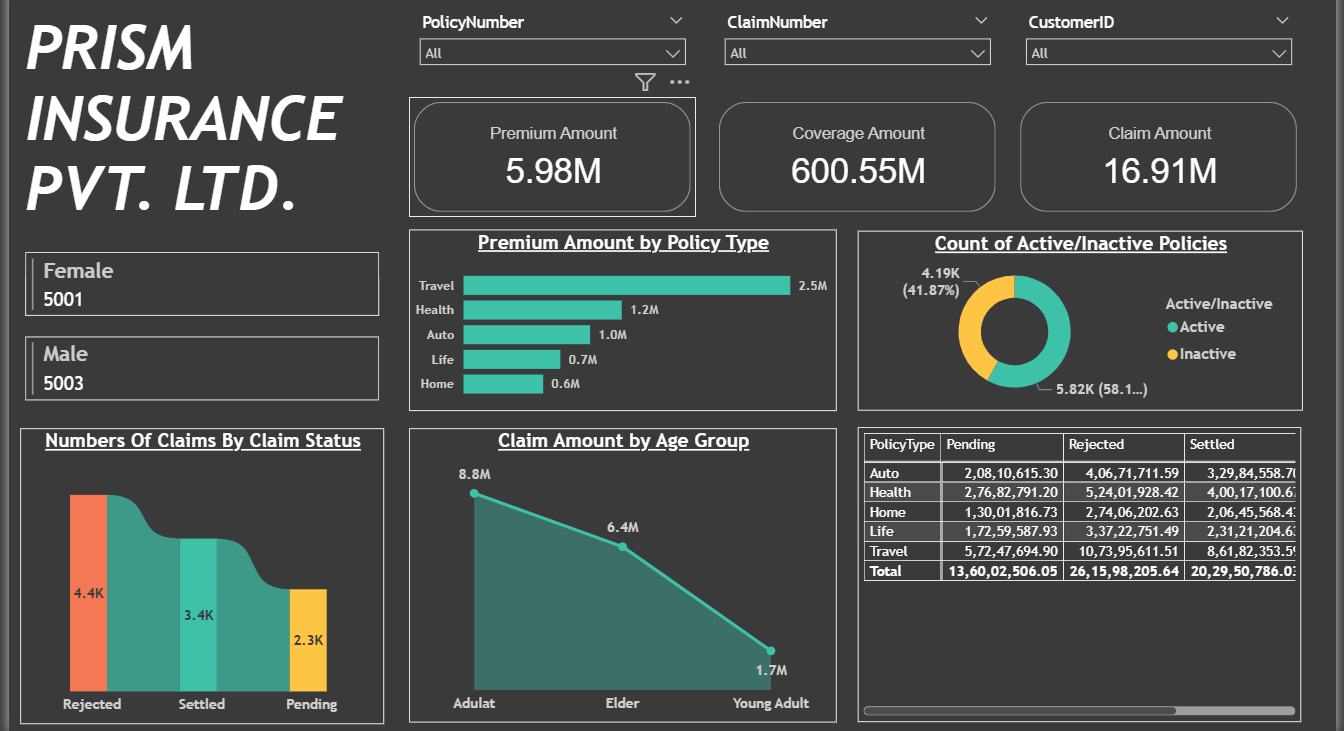

What the dashboard file says about the page in this screenshot:
{"tool":"powerbi","page":{"name":"Page 1","canvas":[1280,720],"ordinal":0},"visuals":[{"type":"slicer","fields":{"Values":["InsuranceData.PolicyNumber"]},"box":[385.6,19.2,277.2,68.6],"z":0},{"type":"slicer","fields":{"Values":["InsuranceData.ClaimNumber"]},"box":[680.6,19.2,277.2,68.6],"z":1000},{"type":"slicer","fields":{"Values":["InsuranceData.CustomerID"]},"box":[971.5,19.2,277.2,68.6],"z":2000},{"type":"textbox","box":[11,19.2,351.3,231.9],"z":3000},{"type":"cardVisual","fields":{"Data":["Sum(InsuranceData.PremiumAmount)"]},"box":[385.6,105.7,277.2,116.6],"z":3001},{"type":"cardVisual","fields":{"Data":["Sum(InsuranceData.CoverageAmount)"]},"box":[680.6,105.7,277.2,116.6],"z":3002},{"type":"cardVisual","fields":{"Data":["Sum(InsuranceData.ClaimAmount)"]},"box":[971.5,105.7,277.2,116.6],"z":3003},{"type":"multiRowCard","fields":{"Values":["InsuranceData.Gender","CountNonNull(InsuranceData.Gender)"]},"box":[11,251.1,351.3,174.3],"z":3004},{"type":"ribbonChart","title":"Numbers Of Claims By Claim Status","fields":{"Category":["InsuranceData.ClaimStatus"],"Y":["CountNonNull(InsuranceData.ClaimStatus)"]},"box":[11,425.4,351.3,285.4],"z":3005},{"type":"barChart","title":" Premium Amount by Policy Type","fields":{"Category":["InsuranceData.PolicyType"],"Y":["Sum(InsuranceData.PremiumAmount)"]},"box":[386.1,234,412.6,174.9],"z":3006},{"type":"lineChart","title":"Claim Amount by Age Group","fields":{"Category":["InsuranceData.Age Group"],"Y":["Sum(InsuranceData.ClaimAmount)"]},"box":[385.6,425.4,413,284],"z":3007},{"type":"donutChart","title":"Count of Active/Inactive Policies","fields":{"Category":["InsuranceData.Active/Inactive"],"Y":["CountNonNull(InsuranceData.Active/Inactive)"]},"box":[819.2,235.3,429.5,173.7],"z":3008},{"type":"pivotTable","fields":{"Values":["Sum(InsuranceData.CoverageAmount)"],"Rows":["InsuranceData.PolicyType"],"Columns":["InsuranceData.ClaimStatus"]},"box":[819.2,424.7,428.3,284.7],"z":3009}]}

Visuals, with their boxes on the page's 1280x720 design canvas (x1, y1, x2, y2). These are canvas units, not pixel positions in the 1344x731 screenshot, which may show the page scaled, cropped or inside an application window:
slicer - InsuranceData.PolicyNumber: [386,19,663,88]
slicer - InsuranceData.ClaimNumber: [681,19,958,88]
slicer - InsuranceData.CustomerID: [972,19,1249,88]
textbox: [11,19,362,251]
cardVisual - Sum(InsuranceData.PremiumAmount): [386,106,663,222]
cardVisual - Sum(InsuranceData.CoverageAmount): [681,106,958,222]
cardVisual - Sum(InsuranceData.ClaimAmount): [972,106,1249,222]
multiRowCard - InsuranceData.Gender x CountNonNull(InsuranceData.Gender): [11,251,362,425]
"Numbers Of Claims By Claim Status" ribbonChart: [11,425,362,711]
" Premium Amount by Policy Type" barChart: [386,234,799,409]
"Claim Amount by Age Group" lineChart: [386,425,799,709]
"Count of Active/Inactive Policies" donutChart: [819,235,1249,409]
pivotTable - Sum(InsuranceData.CoverageAmount) x InsuranceData.PolicyType: [819,425,1248,709]
